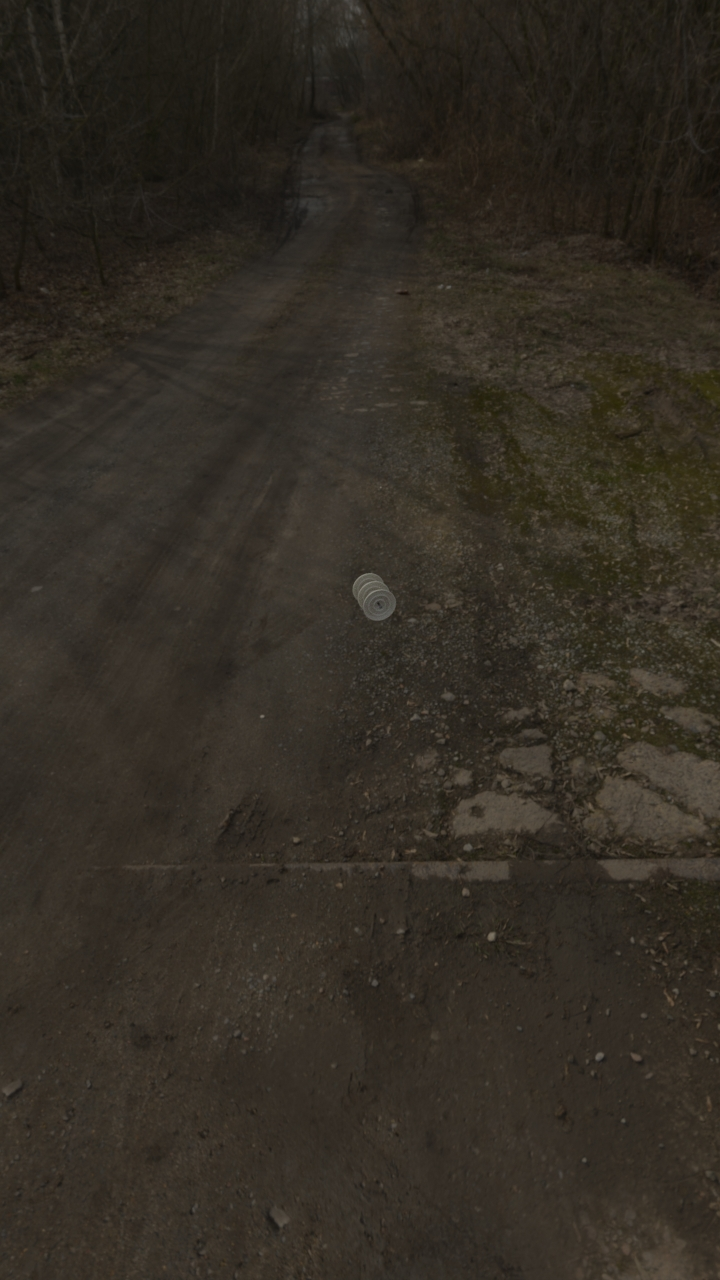ceramicinsulators: (352, 573, 397, 621)
